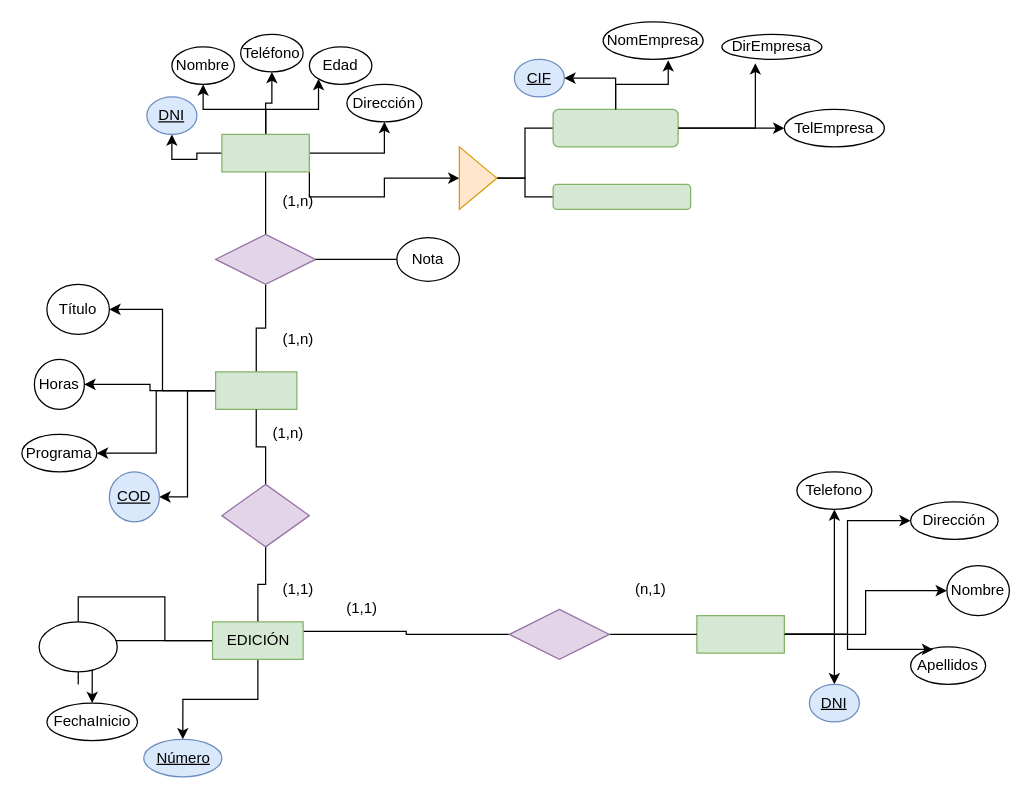
The diagram is 1031 pixels wide and 799 high, and some of its shapes have lost their labels. Each missing label, with the centre of its shape:
ALUMNO: the point at 265,152
CURSO: the point at 255,390
DESEMPLEADOS: the point at 621,196
FechaFin: the point at 77,646
Imparte: the point at 558,633
PROFESOR: the point at 740,633
Realiza: the point at 265,258
Tiene: the point at 265,515
TRABAJADORES: the point at 615,127
